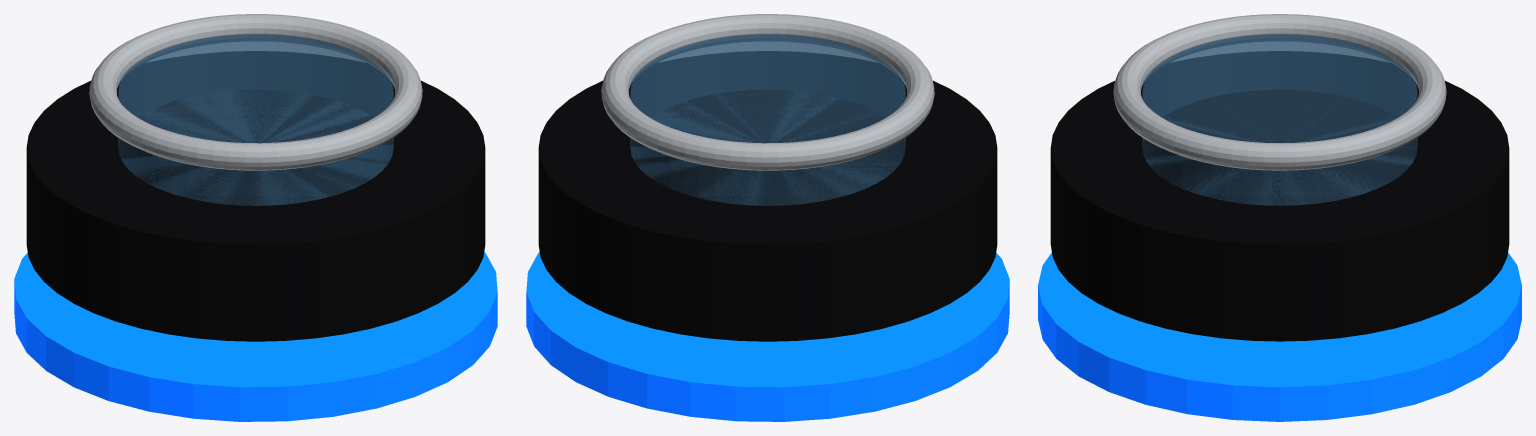
File: news_camera_lens.dae
3 renders of one model, left to right at view 1: azimuth 30°, elevation 25°; view 2: azimuth 150°, elevation 25°; view 3: azimuth 270°, elevation 25°, orthographic.
Parts seen in each view (by area): view 1: 09_16_Popular_News_Camera_Lens_part_01, 09_16_Popular_News_Camera_Lens_ROOT_base, 09_16_Popular_News_Camera_Lens_part_02, 09_16_Popular_News_Camera_Lens_part_03; view 2: 09_16_Popular_News_Camera_Lens_part_01, 09_16_Popular_News_Camera_Lens_ROOT_base, 09_16_Popular_News_Camera_Lens_part_02, 09_16_Popular_News_Camera_Lens_part_03; view 3: 09_16_Popular_News_Camera_Lens_part_01, 09_16_Popular_News_Camera_Lens_ROOT_base, 09_16_Popular_News_Camera_Lens_part_02, 09_16_Popular_News_Camera_Lens_part_03.
Boxes of the visible parts, x1,y1,x2,y2 form: 09_16_Popular_News_Camera_Lens_part_01: (26,51,485,341); 09_16_Popular_News_Camera_Lens_ROOT_base: (14,252,497,421); 09_16_Popular_News_Camera_Lens_part_02: (118,34,393,205); 09_16_Popular_News_Camera_Lens_part_03: (89,14,422,170); 09_16_Popular_News_Camera_Lens_part_01: (538,51,997,341); 09_16_Popular_News_Camera_Lens_ROOT_base: (526,252,1009,421); 09_16_Popular_News_Camera_Lens_part_02: (630,34,905,205); 09_16_Popular_News_Camera_Lens_part_03: (601,14,934,170); 09_16_Popular_News_Camera_Lens_part_01: (1050,51,1509,341); 09_16_Popular_News_Camera_Lens_ROOT_base: (1038,252,1521,421); 09_16_Popular_News_Camera_Lens_part_02: (1142,34,1417,205); 09_16_Popular_News_Camera_Lens_part_03: (1113,14,1446,170).
Size of the model in its own units: 0.76 by 0.4156 by 0.76.
